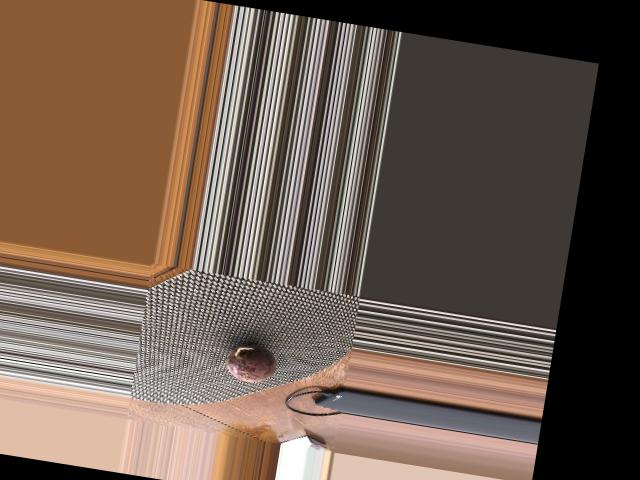beet: (225, 341, 279, 385)
